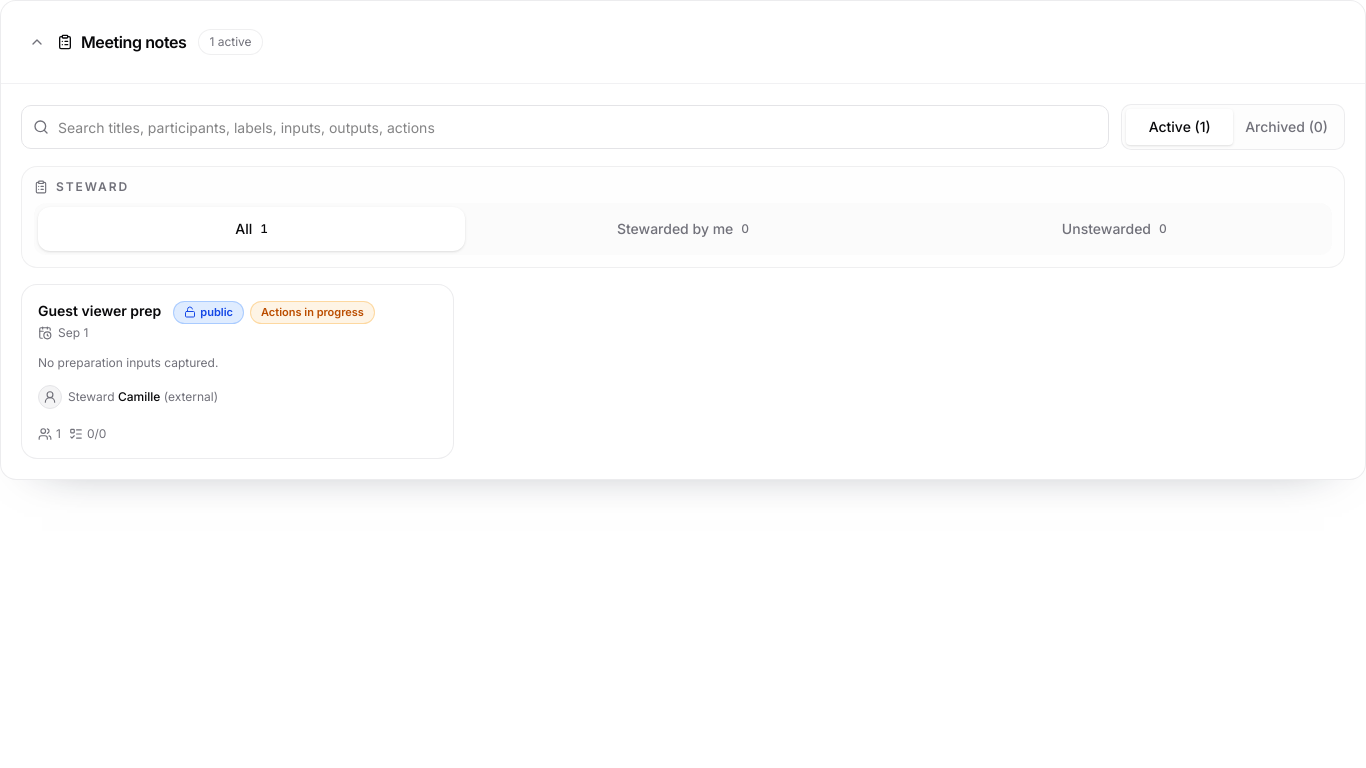
it: project-meeting-notes-panel guest stewardship › renders guest stewardship read-only for viewers
Click the button that starts with "Guest viewer prep".
click(100, 310)  # box [21, 284, 454, 459]
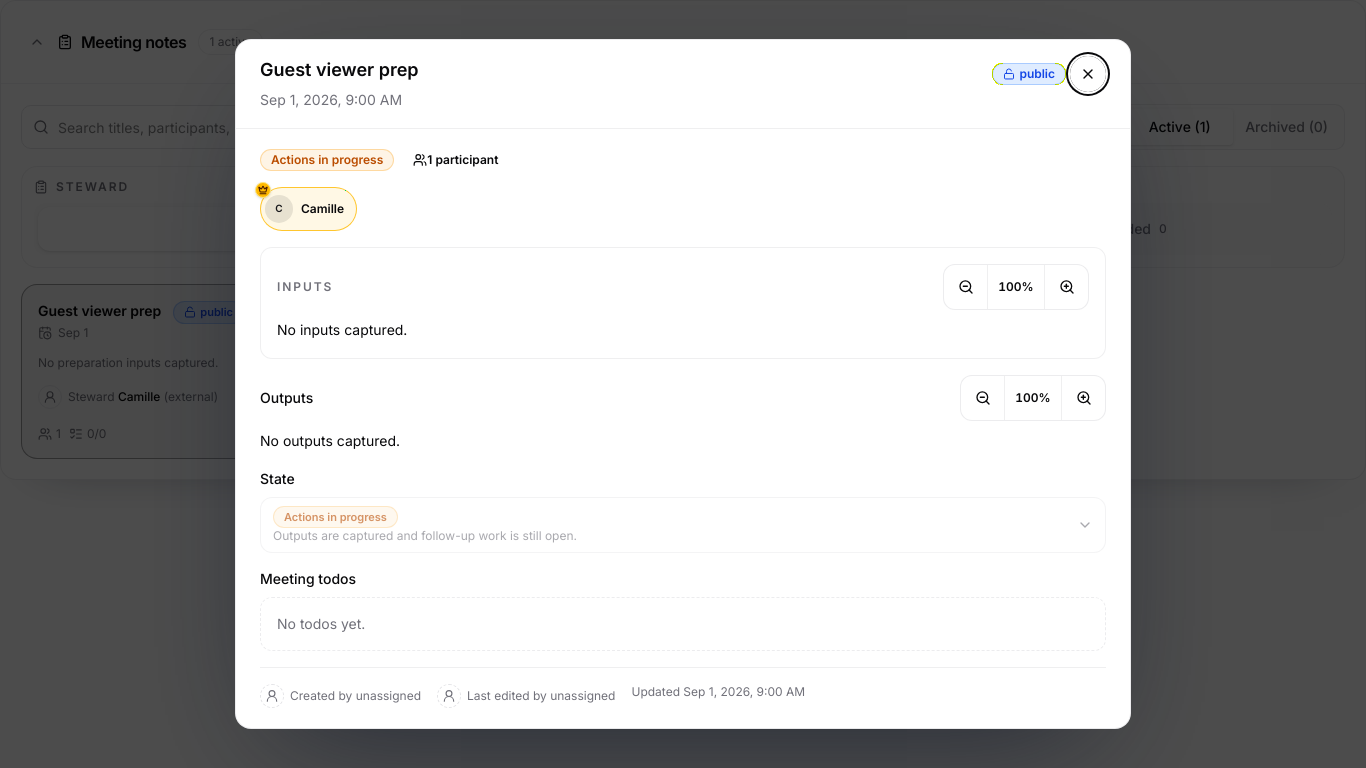
expect the element named "Camille, steward / facilitator" is shown: met, box [260, 187, 357, 231]
